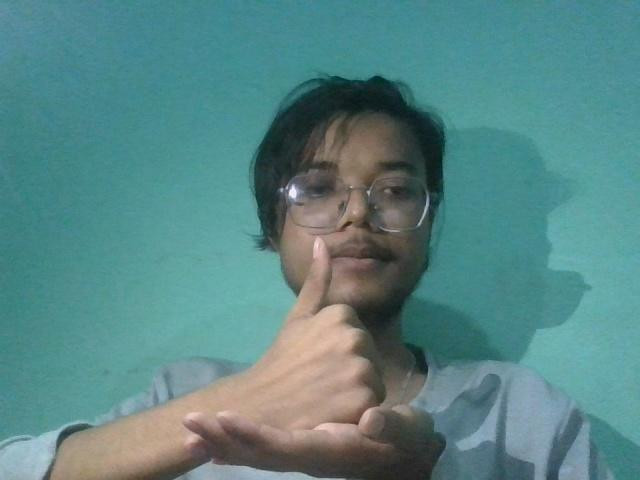help: (166, 232, 478, 471)
